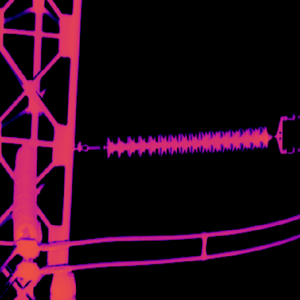insulator: (105, 125, 270, 157)
